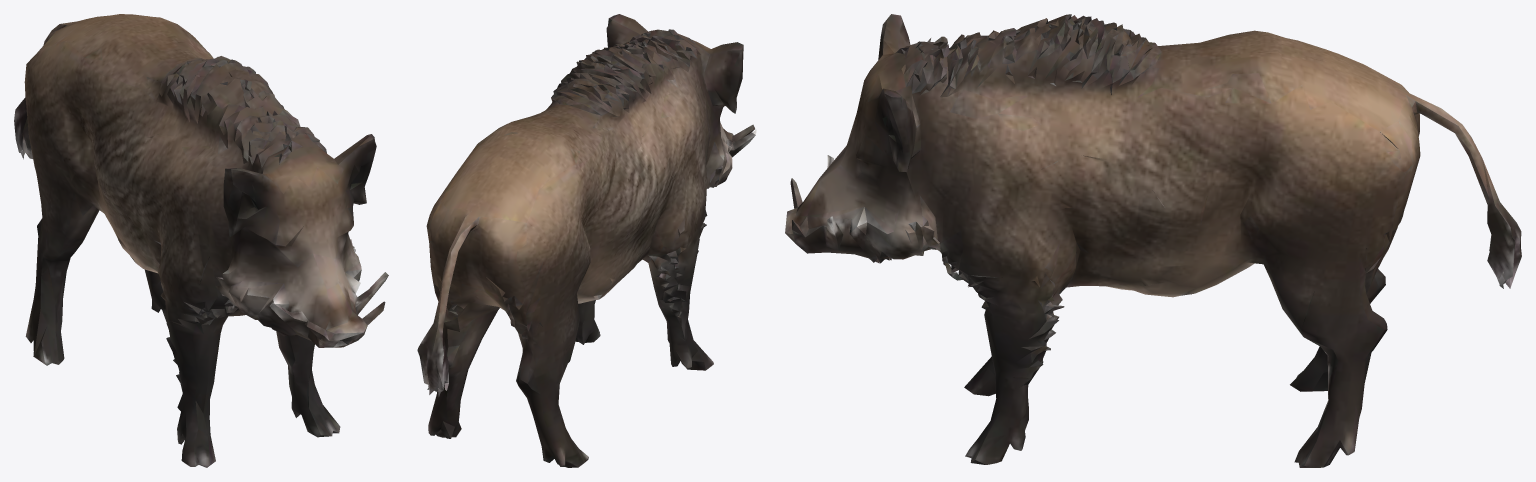
The model's file is boar.phone.glb.
The picture shows the model from 3 angles, left to right: view 1: azimuth 30°, elevation 25°; view 2: azimuth 150°, elevation 25°; view 3: azimuth 270°, elevation 25°; orthographic projection. The views are drawn at different scales.
Parts seen in each view (by area): view 1: boar; view 2: boar; view 3: boar.
Boxes of the visible parts, x1,y1,x2,y2 form: boar: (14,14,388,467); boar: (417,14,756,467); boar: (785,14,1521,467).
Size of the model in its own units: 0.5292 by 1.1 by 1.8.
Materials: 1 (1 with a texture image).
